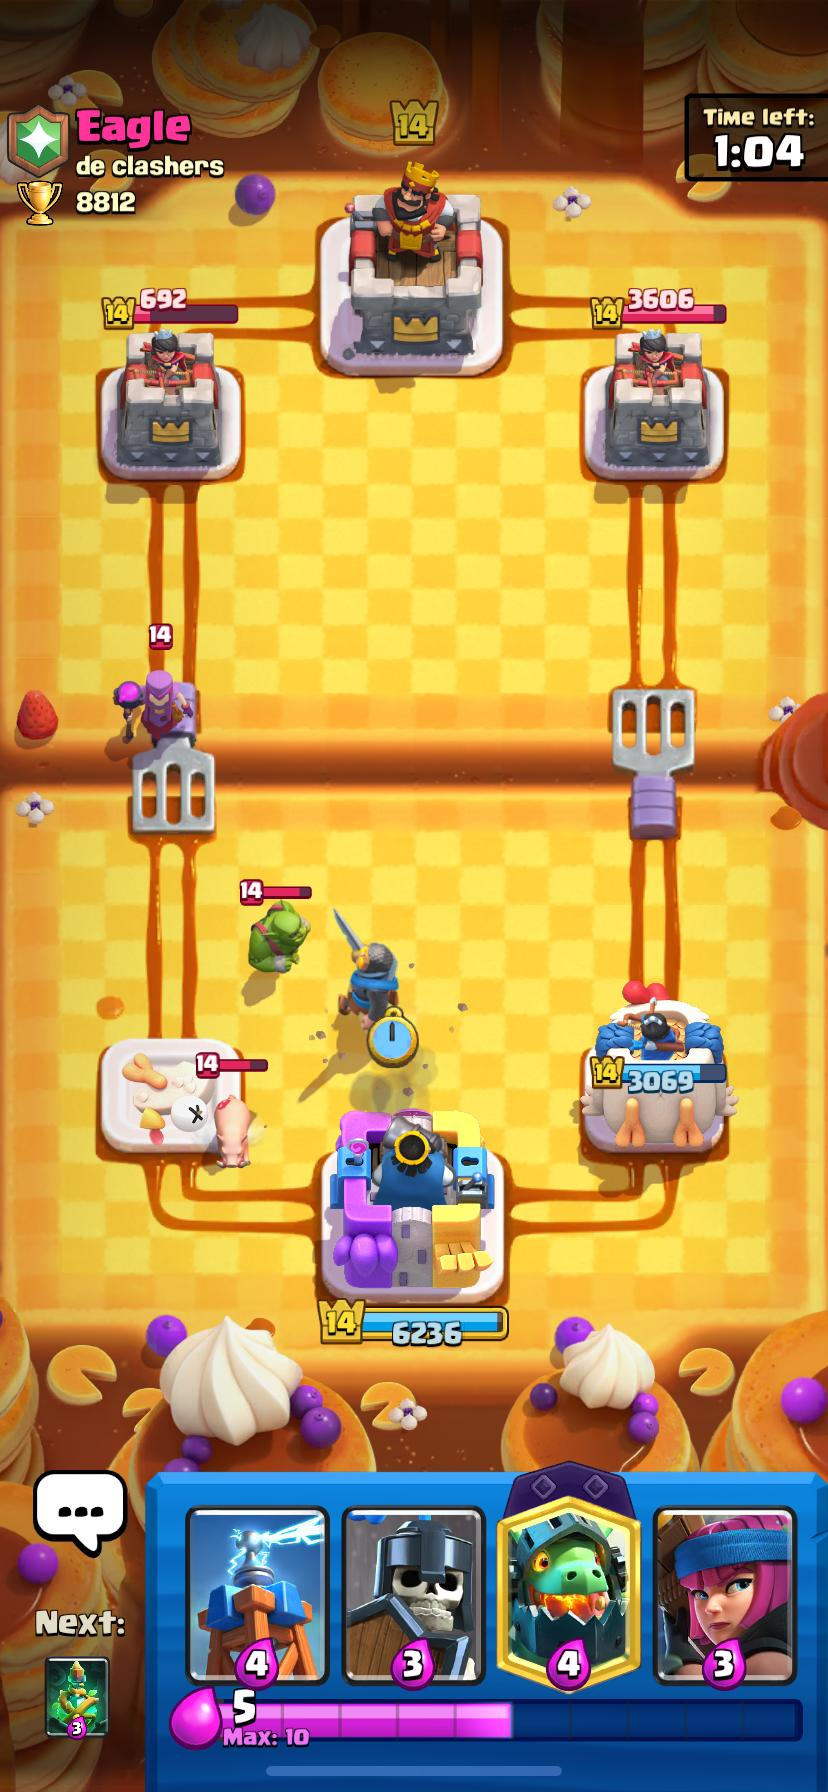EBrawler: (249, 901, 309, 973)
EHog: (215, 1095, 255, 1167)
EKingTower: (347, 163, 483, 370)
EMotherWitch: (114, 670, 197, 745)
EnemyPrincessTower: (101, 325, 240, 479), (586, 329, 724, 480)
OKnight: (339, 942, 396, 1026)
OwnKingTower: (331, 1110, 493, 1298)
OwnPrincessTower: (580, 982, 735, 1151)
TowerDown: (101, 1039, 249, 1154)
